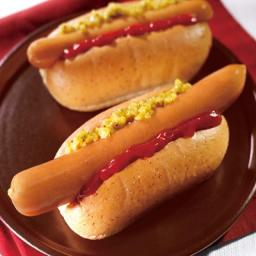hotdog: (0, 60, 250, 242), (23, 0, 227, 114)
